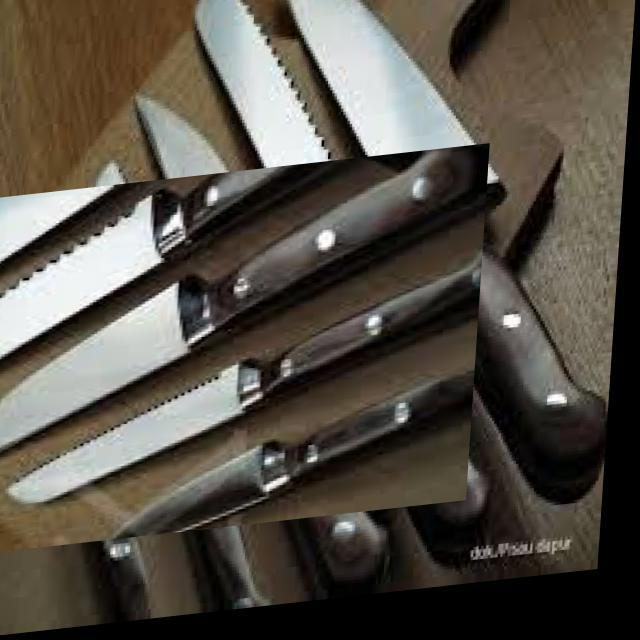knife: (289, 0, 610, 467), (0, 149, 484, 453), (4, 249, 486, 509), (0, 160, 357, 362), (110, 368, 478, 544)
